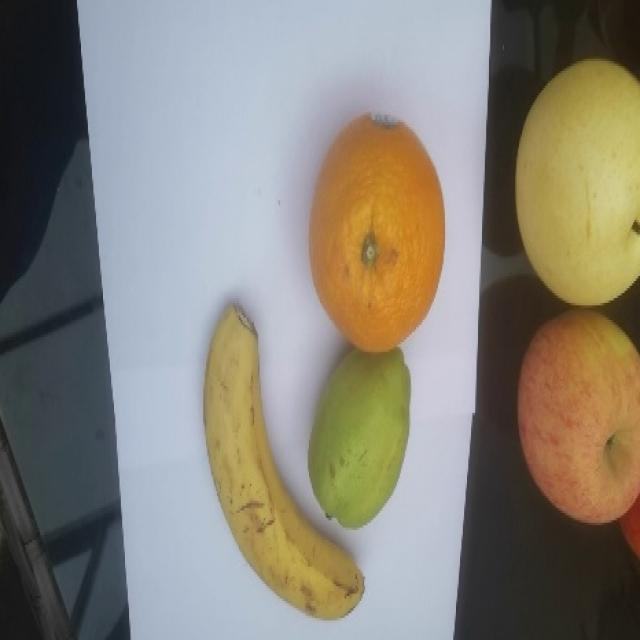Apple: (516, 307, 639, 524)
Banana: (202, 302, 365, 620)
Orange: (308, 111, 445, 353)
